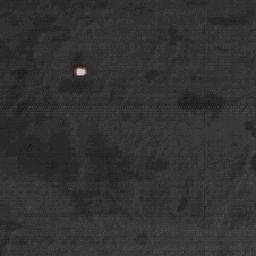Target: (73, 68, 88, 77)
